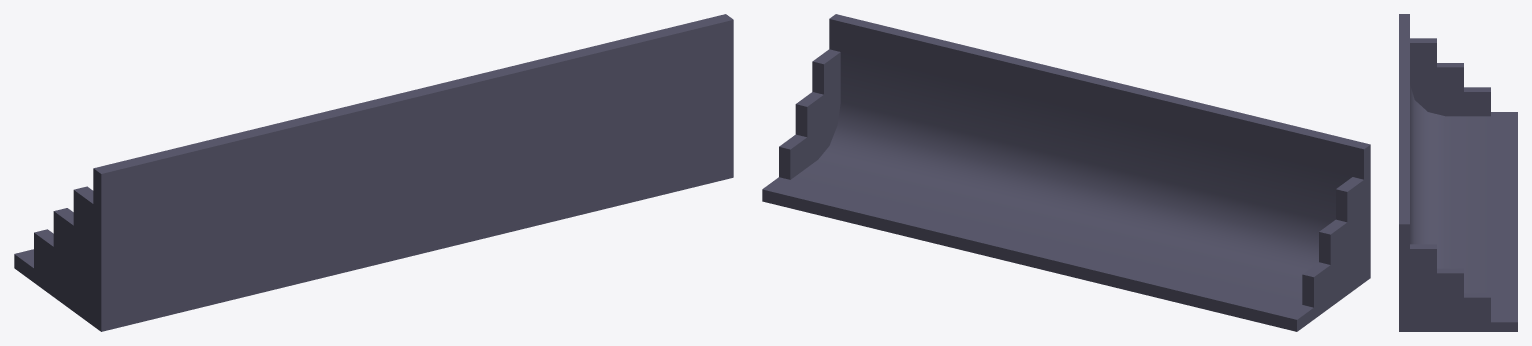
The model's file is SM_WeaponHolder.fbx.
3 views of the same model, side by side, from view 1: azimuth 30°, elevation 25°; view 2: azimuth 150°, elevation 25°; view 3: azimuth 270°, elevation 25° (orthographic). The views are drawn at different scales.
Visible parts, largest first — view 1: SM_WeaponHolder; view 2: SM_WeaponHolder; view 3: SM_WeaponHolder.
Boxes of the visible parts, bbox=[...] form: SM_WeaponHolder: bbox=[14, 14, 733, 331]; SM_WeaponHolder: bbox=[762, 14, 1370, 331]; SM_WeaponHolder: bbox=[1399, 14, 1517, 331].
Size of the model in its own units: 419 by 100 by 100.
